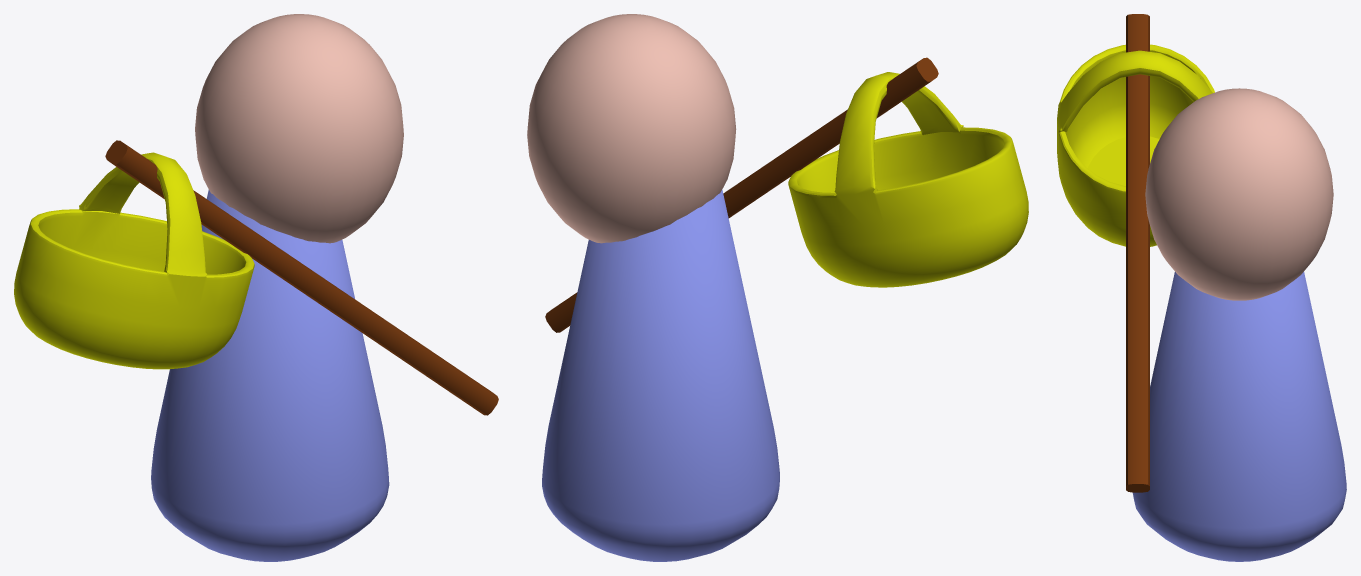
File: Vagabon.fbx
3 views of the same model, side by side, from view 1: azimuth 30°, elevation 25°; view 2: azimuth 150°, elevation 25°; view 3: azimuth 270°, elevation 25° (orthographic). The views are drawn at different scales.
Visible parts, largest first — view 1: Sphere, Cylinder.001, Cube.002; view 2: Sphere, Cylinder.001, Cube.002; view 3: Sphere, Cylinder.001, Cube.002.
Part boxes in pixels (x1,y1,x2,y2): Sphere: (151, 14, 403, 561); Cylinder.001: (14, 152, 254, 369); Cube.002: (105, 140, 498, 415); Sphere: (527, 14, 779, 561); Cylinder.001: (788, 72, 1028, 287); Cube.002: (545, 57, 938, 332); Sphere: (1132, 88, 1346, 561); Cylinder.001: (1057, 44, 1214, 246); Cube.002: (1126, 14, 1149, 492).
Bounding box in the file's own units: 258 × 270 × 153.
